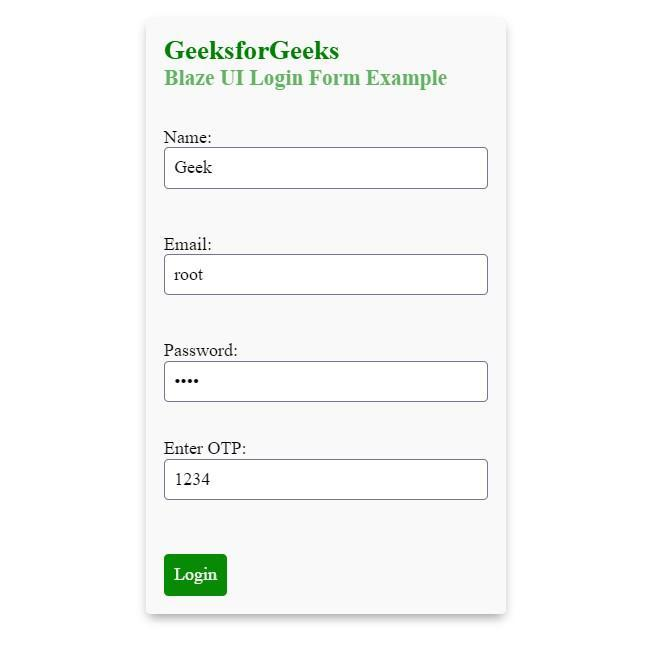button: (165, 554, 228, 596)
input: (165, 256, 489, 297), (166, 148, 487, 189), (165, 460, 489, 500), (165, 362, 490, 401)
label: (163, 437, 249, 458), (162, 343, 240, 360), (164, 233, 213, 254), (160, 128, 217, 145)
